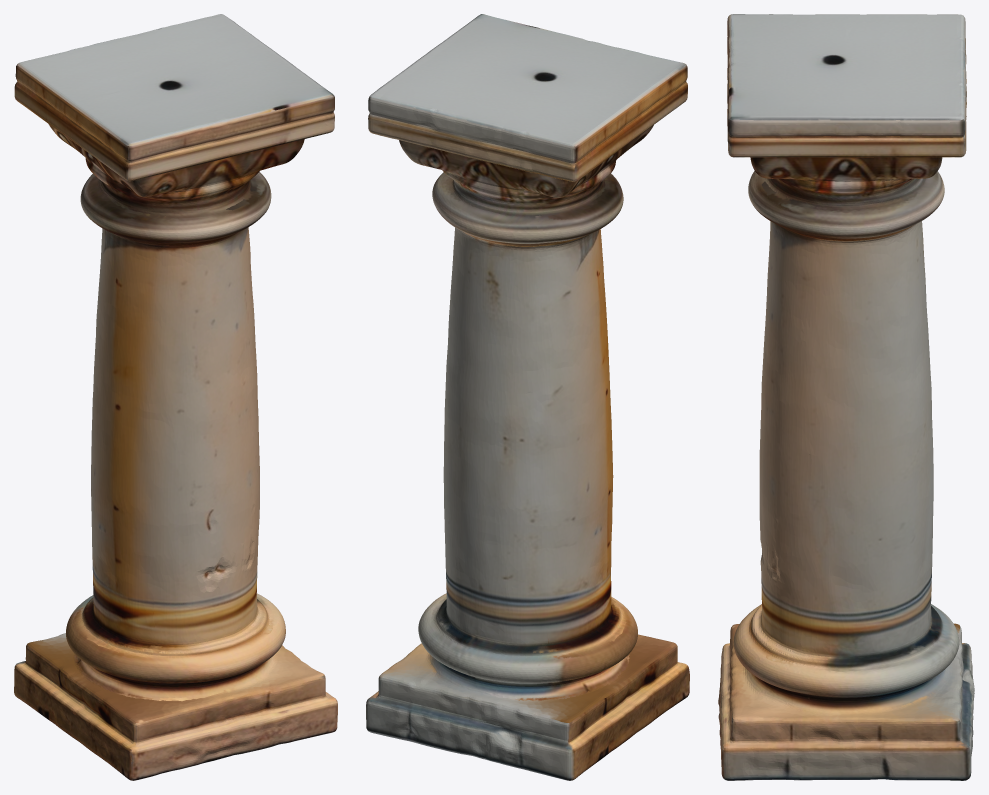
The model's file is weathered-monolith-pillar-generated-2026-04-18t22-01-36-007z-texture-wrap-2026-04-18T23-14-30-195Z.glb.
3 renders of one model, left to right at view 1: azimuth 30°, elevation 25°; view 2: azimuth 150°, elevation 25°; view 3: azimuth 270°, elevation 25°, orthographic. The views are drawn at different scales.
Visible parts, largest first — view 1: temp_mesh.ply; view 2: temp_mesh.ply; view 3: temp_mesh.ply.
Boxes of the visible parts, left/top/right/bottom form: temp_mesh.ply: left=14, top=14, right=337, bottom=780; temp_mesh.ply: left=366, top=14, right=689, bottom=780; temp_mesh.ply: left=718, top=14, right=974, bottom=780.
Size of the model in its own units: 0.6844 by 1.97 by 0.6912.
1 material, 1 textured.
